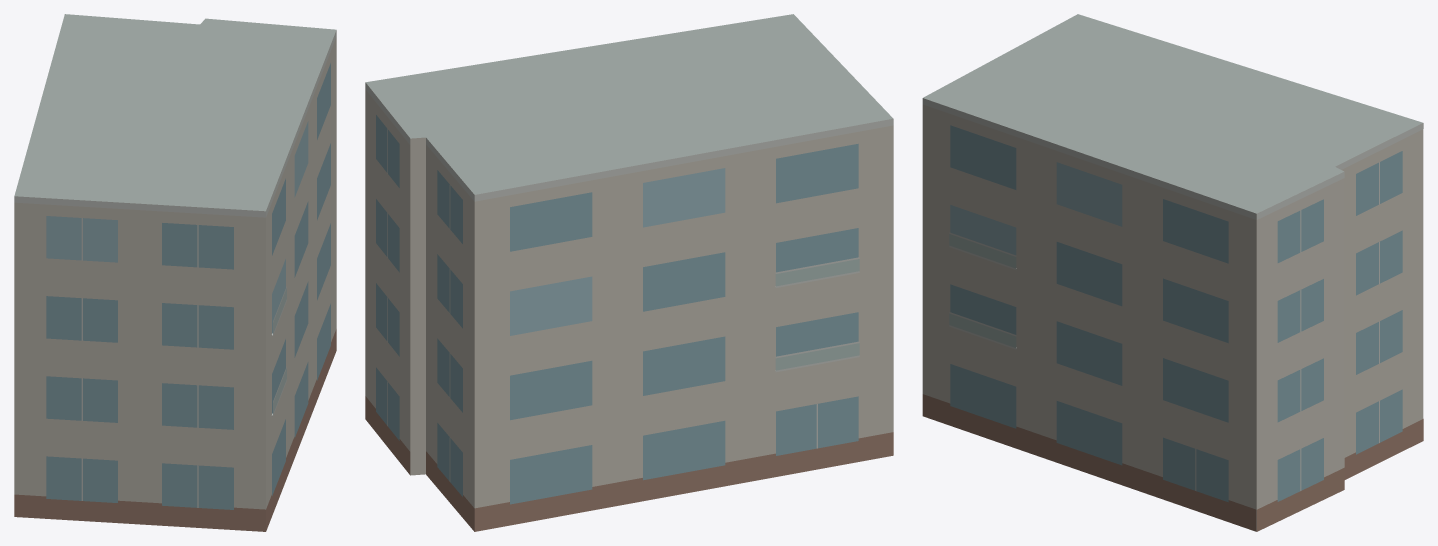
Rendered from survey-upis-32953336.glb.
The picture shows the model from 3 angles, left to right: view 1: azimuth 30°, elevation 25°; view 2: azimuth 150°, elevation 25°; view 3: azimuth 270°, elevation 25°; orthographic projection. The views are drawn at different scales.
Parts seen in each view (by area): view 1: survey-upis-32953336.tmp; view 2: survey-upis-32953336.tmp; view 3: survey-upis-32953336.tmp.
Boxes of the visible parts, box(x1,y1,x2,y2) form: survey-upis-32953336.tmp: box(14, 14, 336, 531); survey-upis-32953336.tmp: box(365, 14, 893, 531); survey-upis-32953336.tmp: box(922, 14, 1423, 531).
Size of the model in its own units: 16.43 by 12.2 by 17.41.
